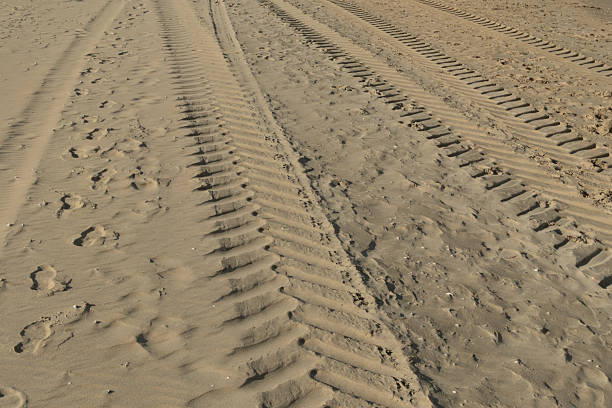vehicle_track: (155, 0, 430, 407), (260, 0, 611, 281), (305, 12, 611, 242), (329, 0, 611, 171), (0, 0, 124, 239), (415, 0, 611, 76)
